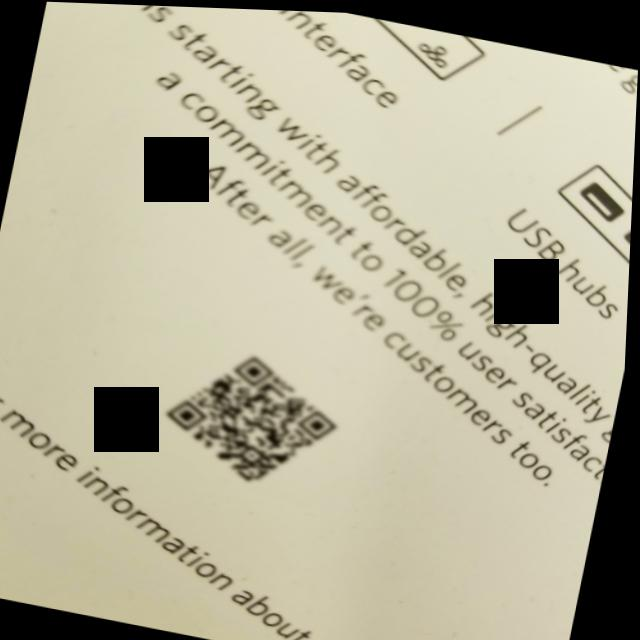QR_CODE: (144, 327, 365, 505)
